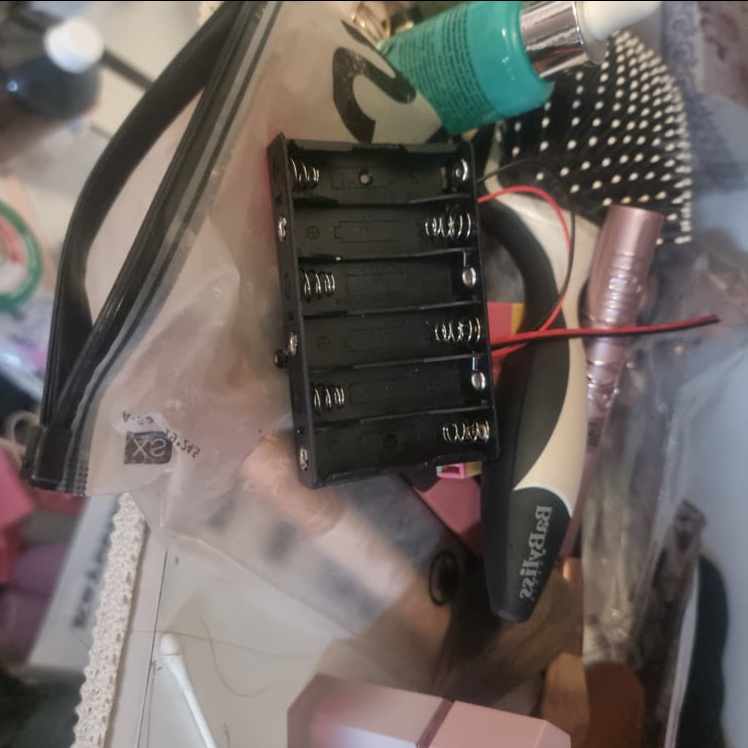BATTERY BOX: (264, 129, 499, 488)
